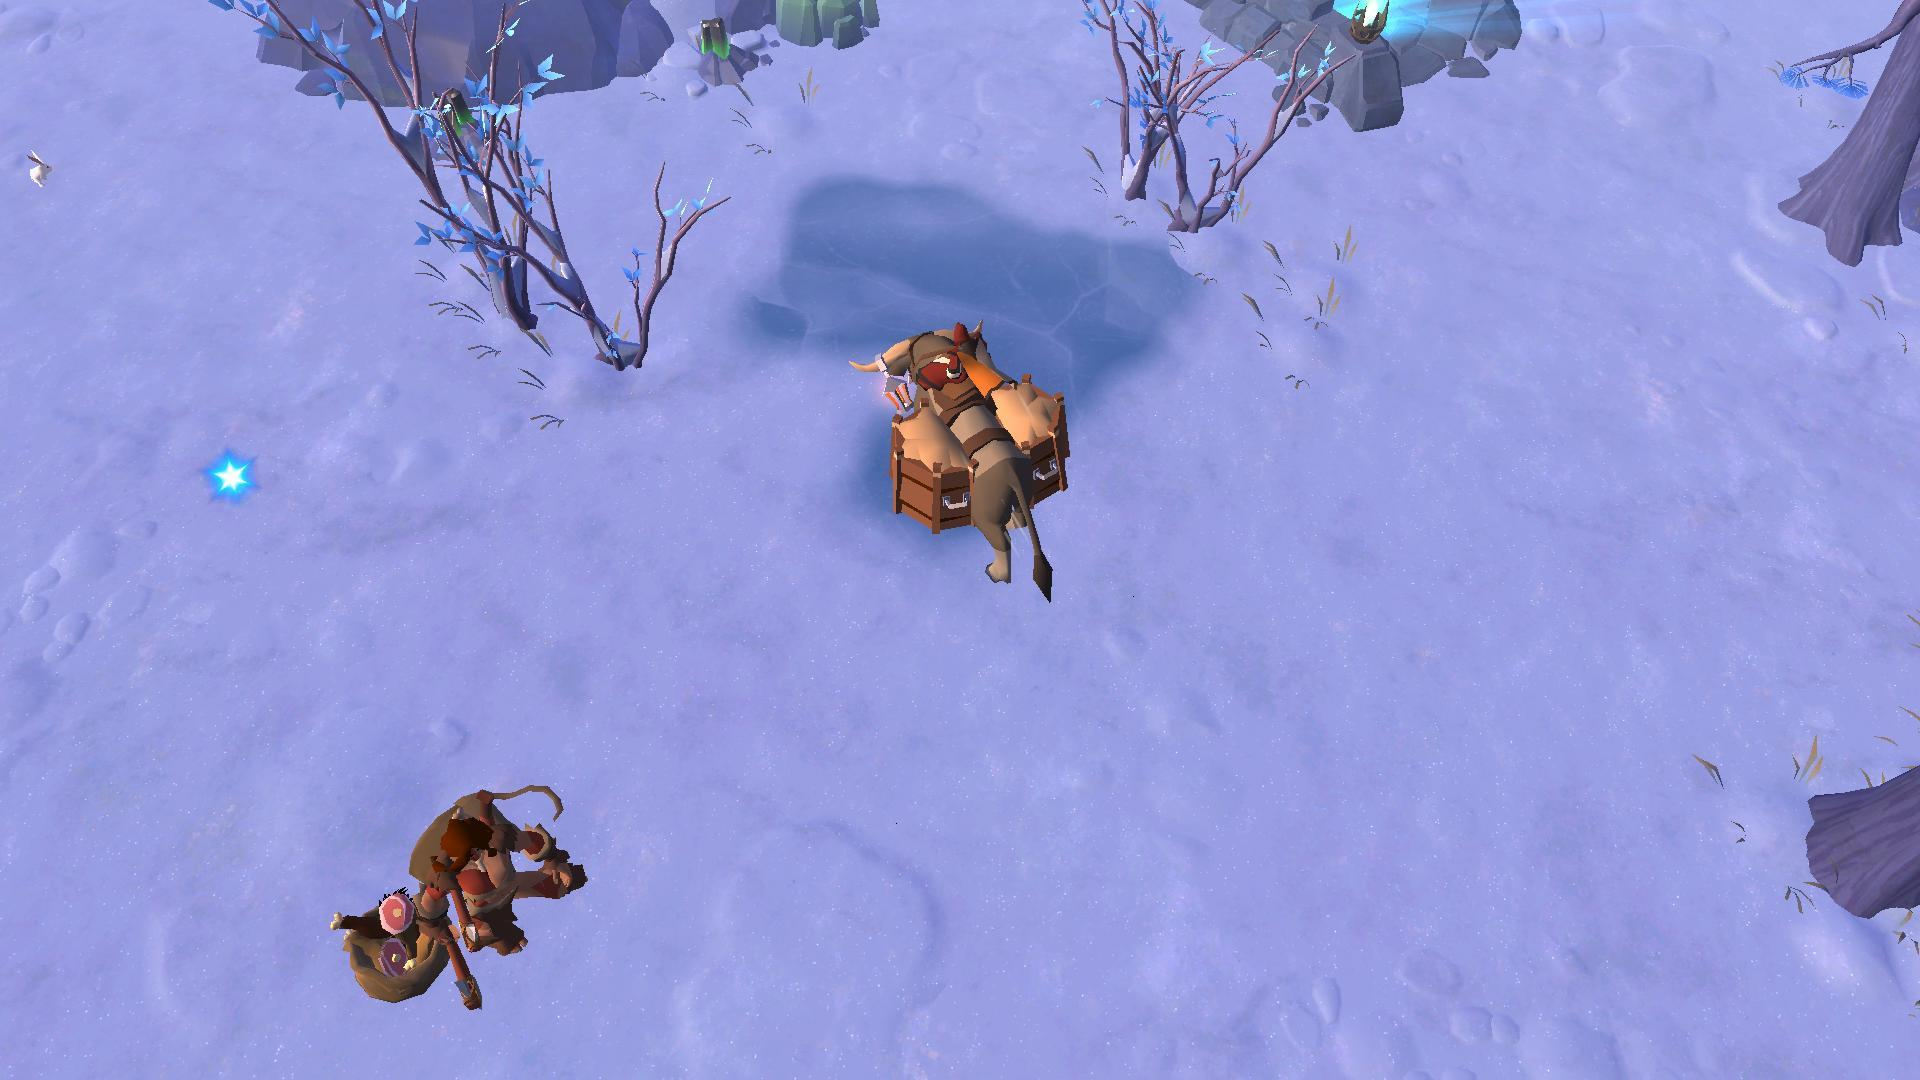enemy_factionKeeper: (381, 783, 592, 992)
ore_t3: (425, 83, 484, 141), (694, 11, 733, 65)
rock_t3: (762, 0, 889, 59)
